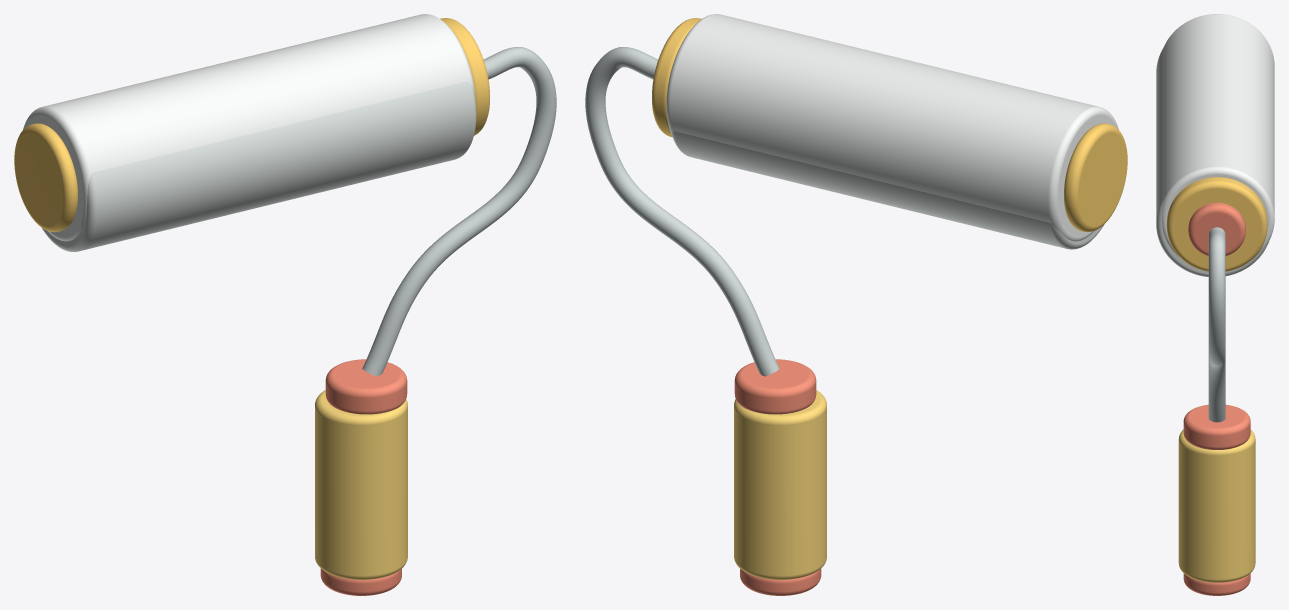
The model's file is PaintRoller.glb.
The picture shows the model from 3 angles, left to right: view 1: azimuth 30°, elevation 25°; view 2: azimuth 150°, elevation 25°; view 3: azimuth 270°, elevation 25°; orthographic projection. The views are drawn at different scales.
Visible parts, largest first — view 1: PaintRoller_Sleeve, PaintRoller_Sleeve_Shadow, PaintRoller_Handle, PaintRoller_Frame, PaintRoller_EndCap_Left, PaintRoller_Handle_Collar_Top, PaintRoller_EndCap_Right, PaintRoller_Handle_Collar_Bottom; view 2: PaintRoller_Sleeve, PaintRoller_Handle, PaintRoller_Sleeve_Shadow, PaintRoller_Frame, PaintRoller_EndCap_Left, PaintRoller_Handle_Collar_Top, PaintRoller_EndCap_Right, PaintRoller_Handle_Collar_Bottom; view 3: PaintRoller_Sleeve, PaintRoller_Handle, PaintRoller_EndCap_Right, PaintRoller_Frame, PaintRoller_Handle_Collar_Top, PaintRoller_Sleeve_Shadow, PaintRoller_EndHub, PaintRoller_Handle_Collar_Bottom.
Boxes of the visible parts, bbox=[...] form: PaintRoller_Sleeve: bbox=[23, 14, 475, 241]; PaintRoller_Sleeve_Shadow: bbox=[42, 81, 476, 251]; PaintRoller_Handle: bbox=[315, 390, 407, 579]; PaintRoller_Frame: bbox=[362, 47, 556, 376]; PaintRoller_EndCap_Left: bbox=[14, 123, 77, 232]; PaintRoller_Handle_Collar_Top: bbox=[325, 359, 407, 414]; PaintRoller_EndCap_Right: bbox=[440, 18, 489, 135]; PaintRoller_Handle_Collar_Bottom: bbox=[320, 568, 401, 595]; PaintRoller_Sleeve: bbox=[666, 14, 1118, 241]; PaintRoller_Handle: bbox=[734, 390, 826, 579]; PaintRoller_Sleeve_Shadow: bbox=[672, 131, 1104, 249]; PaintRoller_Frame: bbox=[585, 47, 779, 376]; PaintRoller_EndCap_Left: bbox=[1064, 123, 1127, 232]; PaintRoller_Handle_Collar_Top: bbox=[734, 359, 816, 414]; PaintRoller_EndCap_Right: bbox=[652, 18, 701, 137]; PaintRoller_Handle_Collar_Bottom: bbox=[740, 568, 821, 595]; PaintRoller_Sleeve: bbox=[1162, 14, 1274, 257]; PaintRoller_Handle: bbox=[1178, 429, 1255, 582]; PaintRoller_EndCap_Right: bbox=[1166, 177, 1267, 271]; PaintRoller_Frame: bbox=[1208, 227, 1225, 422]; PaintRoller_Handle_Collar_Top: bbox=[1183, 404, 1250, 449]; PaintRoller_Sleeve_Shadow: bbox=[1156, 47, 1268, 276]; PaintRoller_EndHub: bbox=[1188, 202, 1245, 255]; PaintRoller_Handle_Collar_Bottom: bbox=[1183, 573, 1250, 595].
Size of the model in its own units: 2.05 by 2.06 by 0.494.
